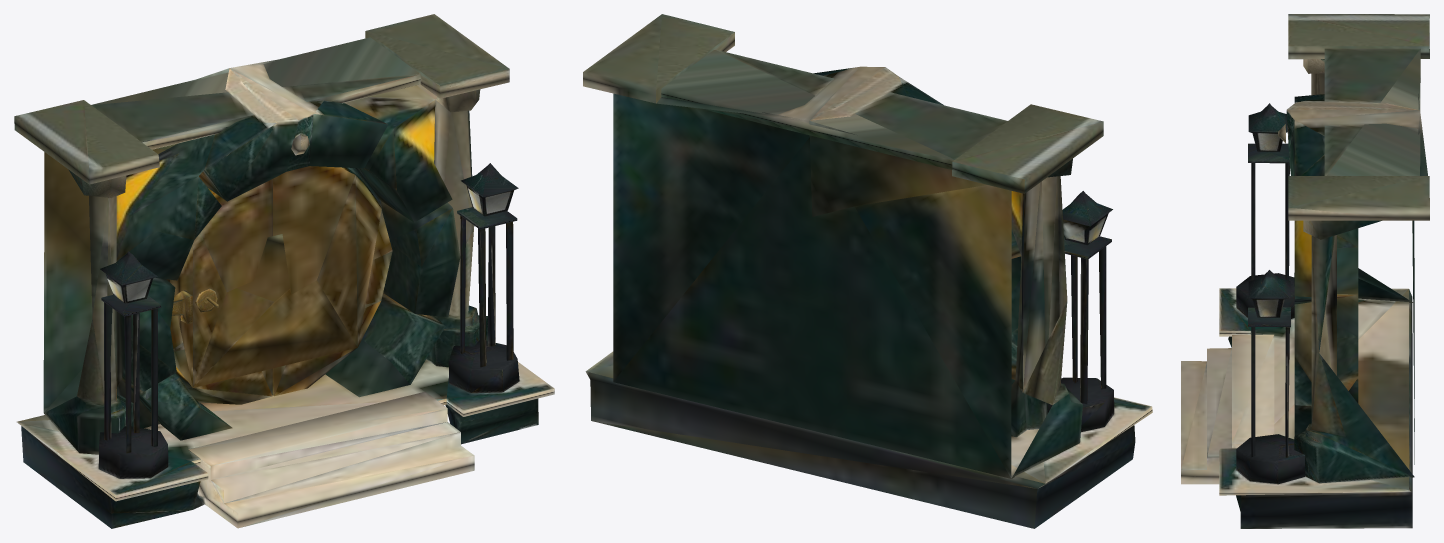
Rendered from bank_entrance.glb.
3 renders of one model, left to right at view 1: azimuth 30°, elevation 25°; view 2: azimuth 150°, elevation 25°; view 3: azimuth 270°, elevation 25°, orthographic. The views are drawn at different scales.
Size of the model in its own units: 4.5 by 3.33 by 2.34.
1 material, 1 textured.
